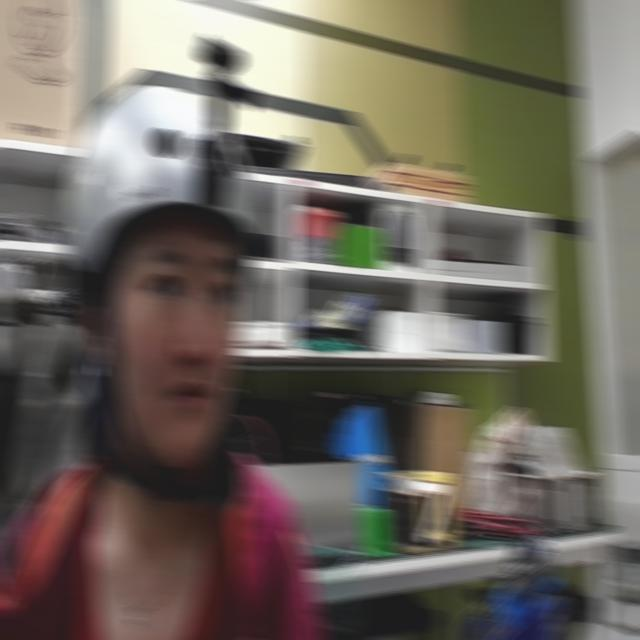With Helmet: (38, 19, 304, 512)
